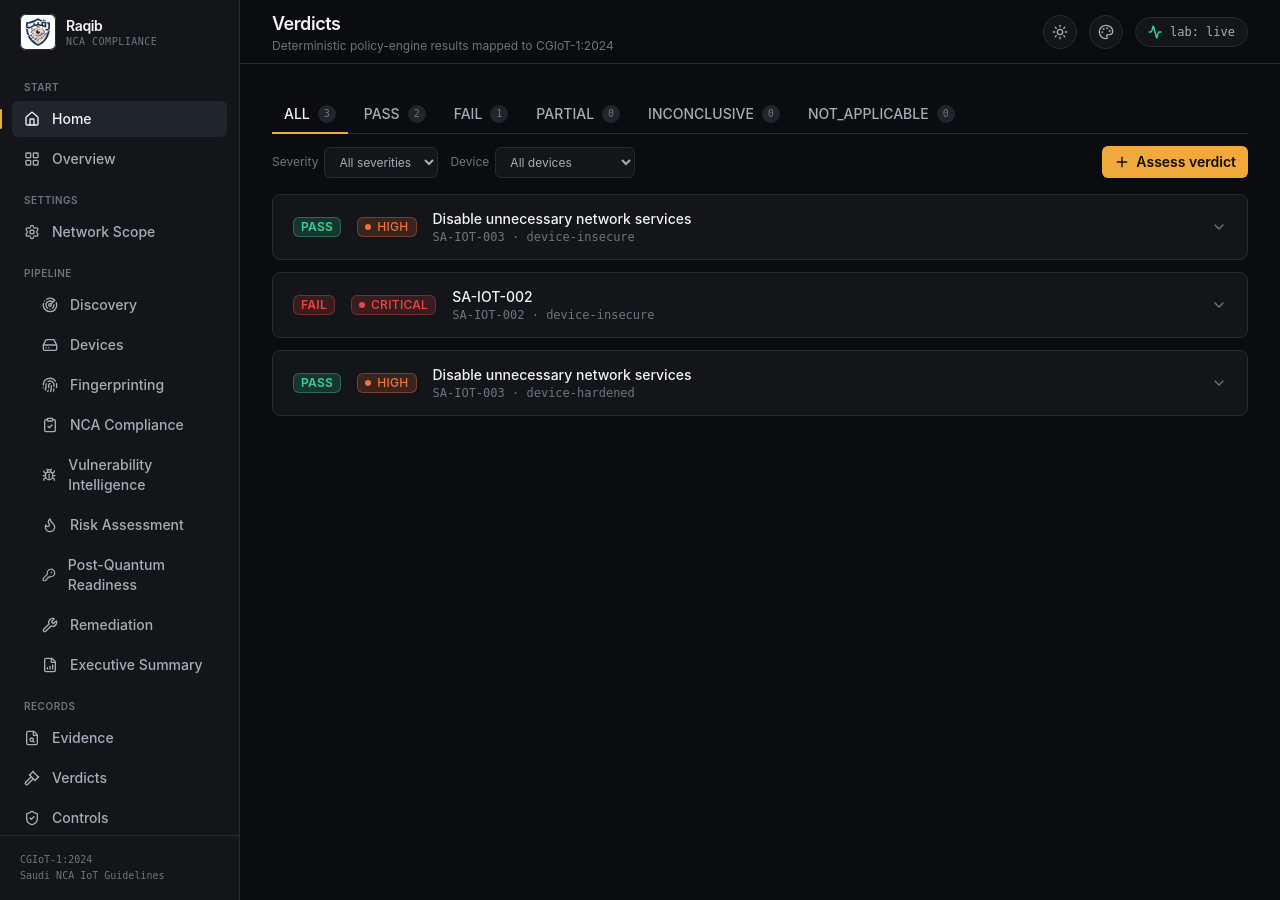
VerdictsPage › shows the backend error inline when a control has no evidence to assess
Click the button "Assess verdict" at (1175, 162), box x1=1102 y1=146 x2=1248 y2=178
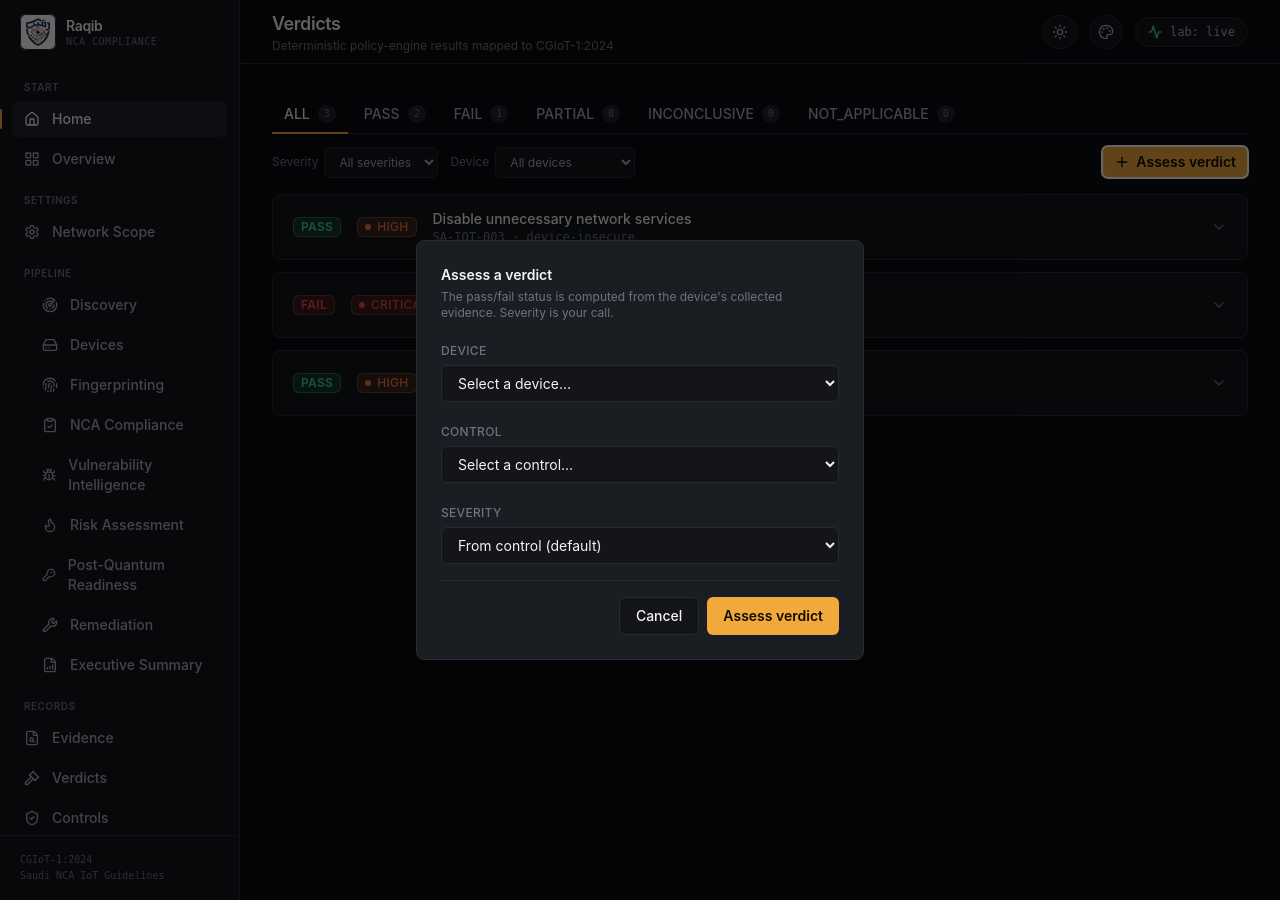
Select "device-insecure" in the dropdown labelled "Device" at (640, 384), box x1=441 y1=365 x2=839 y2=402
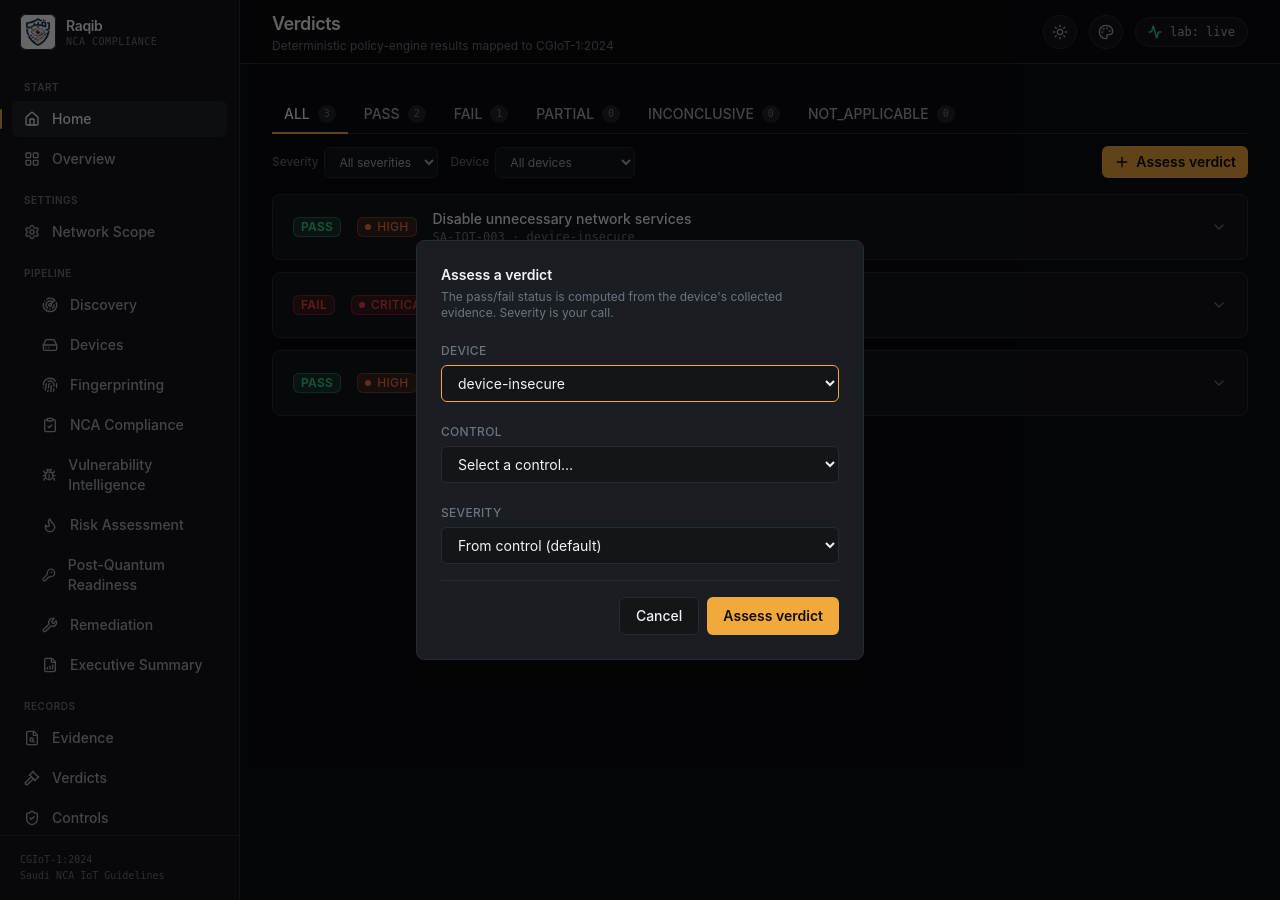
Select "SA-IOT-003 — Disable unnecessary network services" in the dropdown labelled "Control" at (640, 464), box x1=441 y1=446 x2=839 y2=483
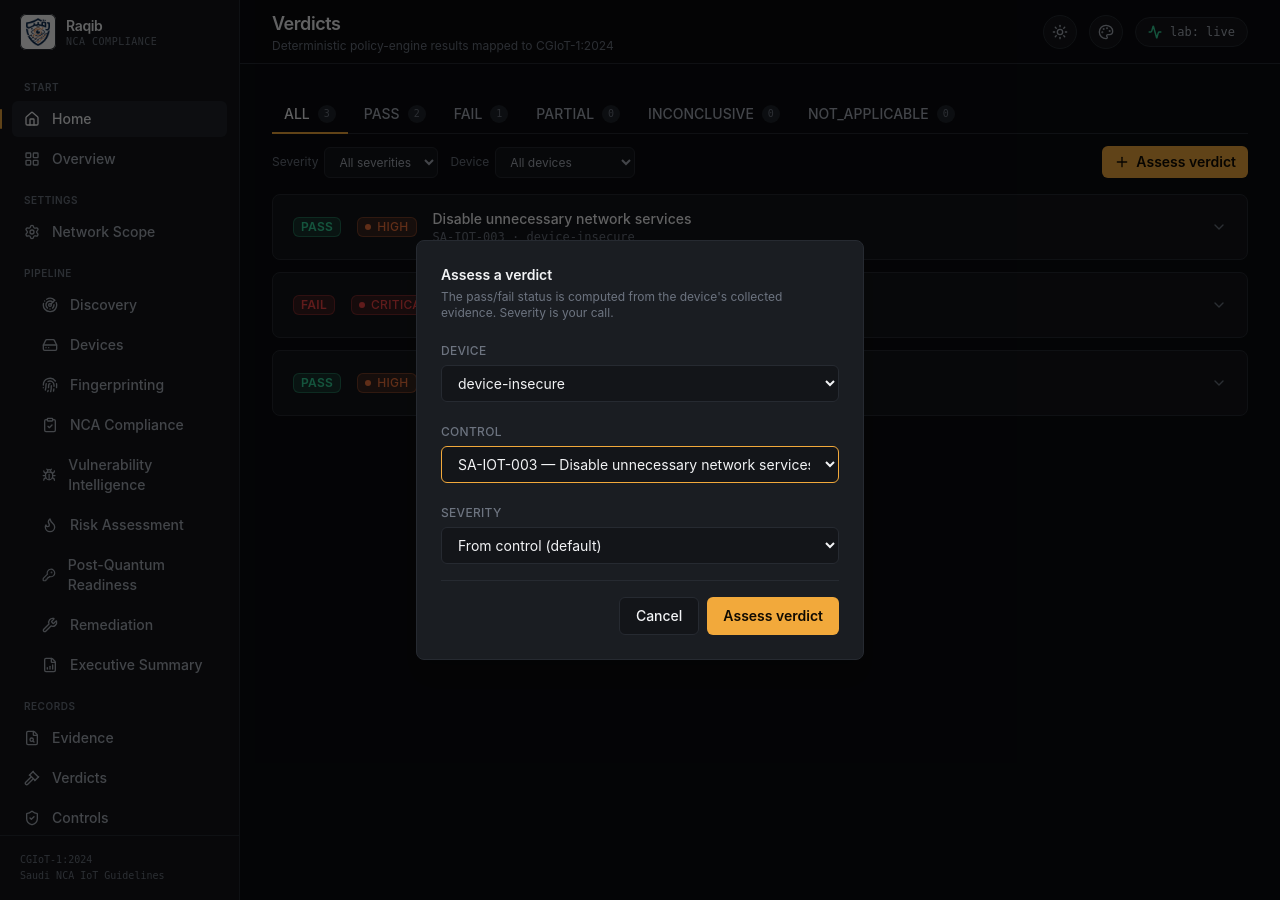
Click the button "Assess verdict" at (773, 616), box x1=707 y1=597 x2=839 y2=635
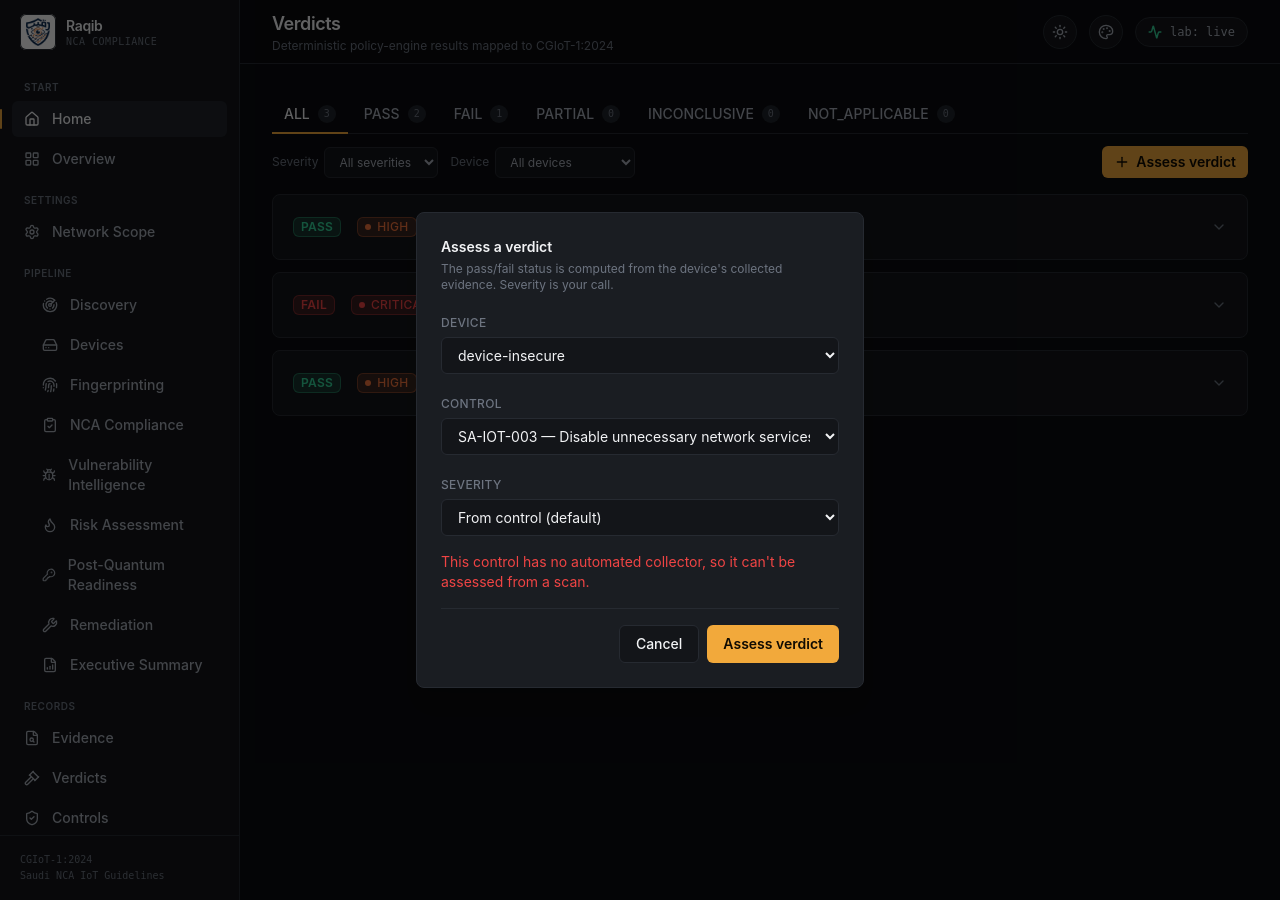
Expected: the text "no automated collector" is shown, x1=441 y1=553 x2=795 y2=590
